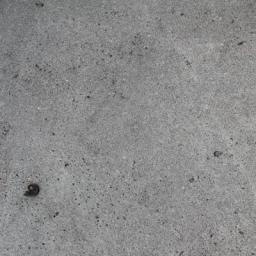FOD: (23, 183, 43, 200)
